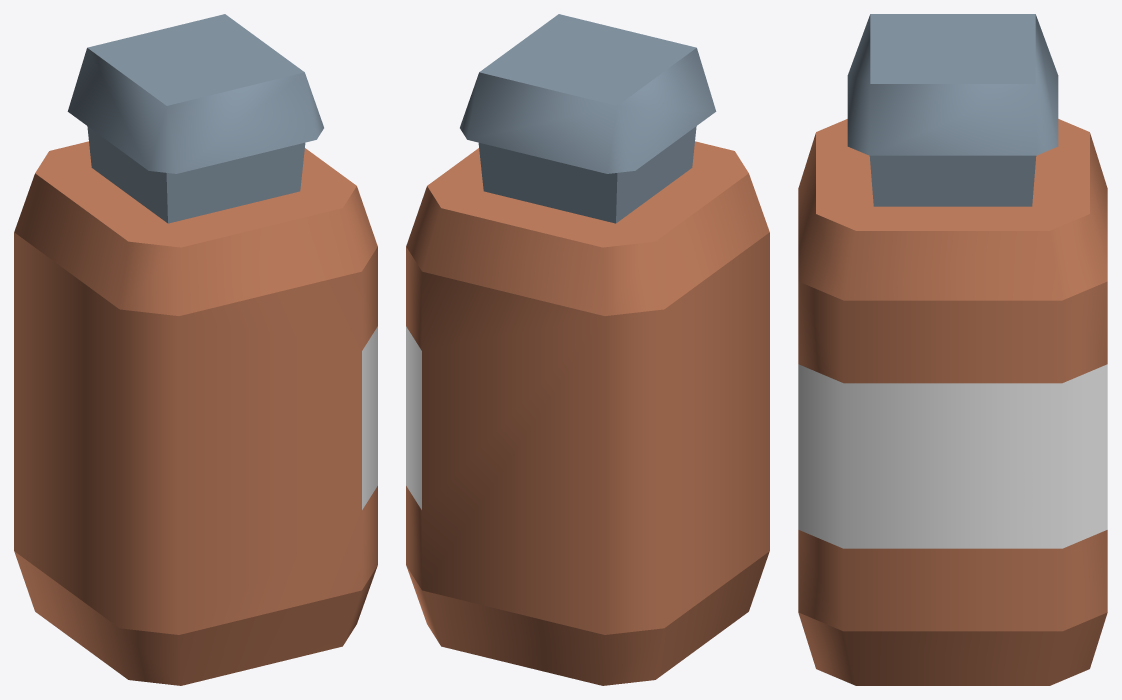
The model's file is Shaker Salt.glb.
3 renders of one model, left to right at view 1: azimuth 30°, elevation 25°; view 2: azimuth 150°, elevation 25°; view 3: azimuth 270°, elevation 25°, orthographic. The views are drawn at different scales.
Visible parts, largest first — view 1: shakerSalt; view 2: shakerSalt; view 3: shakerSalt.
Boxes of the visible parts, left/top/right/bottom form: shakerSalt: left=14, top=14, right=377, bottom=685; shakerSalt: left=406, top=14, right=769, bottom=685; shakerSalt: left=798, top=14, right=1107, bottom=685.
Size of the model in its own units: 0.0949 by 0.196 by 0.0949.
